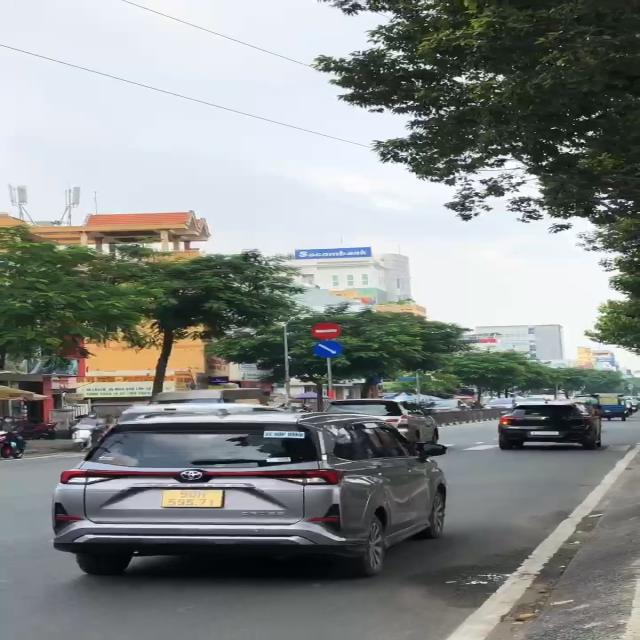Bien bao cam di nguoc chieu: (309, 322, 343, 340)
Bien bao huong phai di vong chuong ngai vat: (308, 341, 352, 361)
